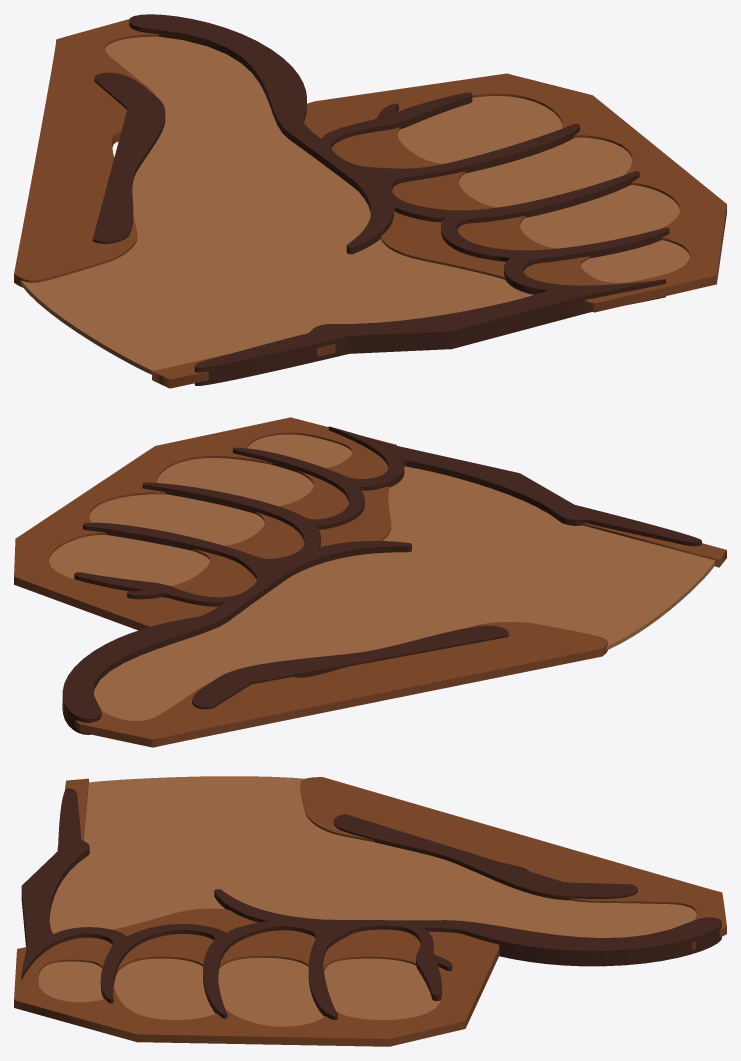
The model's file is emoji_u1f44d_1f3fe.glb.
3 renders of one model, top to bottom at view 1: azimuth 30°, elevation 25°; view 2: azimuth 150°, elevation 25°; view 3: azimuth 270°, elevation 25°, orthographic. The views are drawn at different scales.
Visible parts, largest first — view 1: emoji_u1f44d_1f3fe; view 2: emoji_u1f44d_1f3fe; view 3: emoji_u1f44d_1f3fe.
Part boxes in pixels (x1,y1,x2,y2): emoji_u1f44d_1f3fe: (14, 14, 726, 388); emoji_u1f44d_1f3fe: (14, 417, 726, 747); emoji_u1f44d_1f3fe: (14, 776, 726, 1046).
Bounding box in the file's own units: 0.0292 × 0.0008 × 0.0332.
